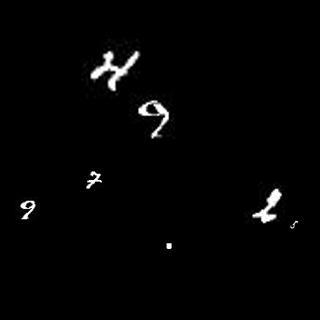dot: (162, 239, 176, 252)
five: (289, 216, 303, 230)
four: (92, 45, 141, 91)
nine: (138, 100, 169, 140), (16, 197, 37, 221)
seven: (84, 166, 105, 189)
two: (252, 186, 284, 225)
